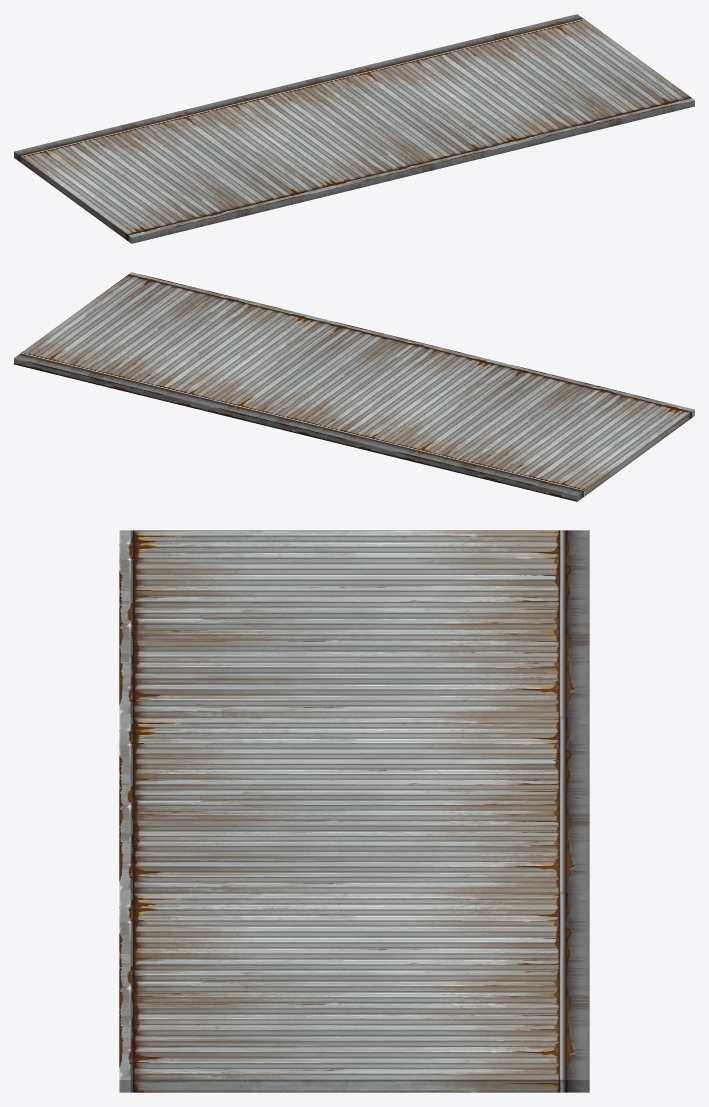
Rendered from roof_container_9m.fbx.
3 renders of one model, top to bottom at view 1: azimuth 30°, elevation 25°; view 2: azimuth 150°, elevation 25°; view 3: azimuth 270°, elevation 25°, orthographic. The views are drawn at different scales.
Visible parts, largest first — view 1: roof_container_9m; view 2: roof_container_9m; view 3: roof_container_9m.
Part boxes in pixels (left/top/right/bottom): roof_container_9m: left=14, top=14, right=694, bottom=243; roof_container_9m: left=14, top=272, right=694, bottom=501; roof_container_9m: left=119, top=530, right=589, bottom=1092.
Bounding box in the file's own units: 940 × 10 × 340.
